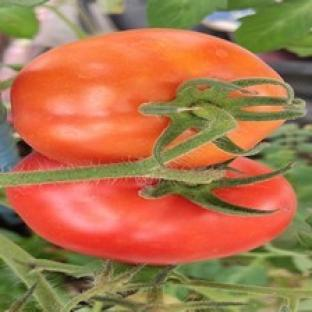Tomato: (12, 30, 281, 164), (7, 176, 296, 264)
